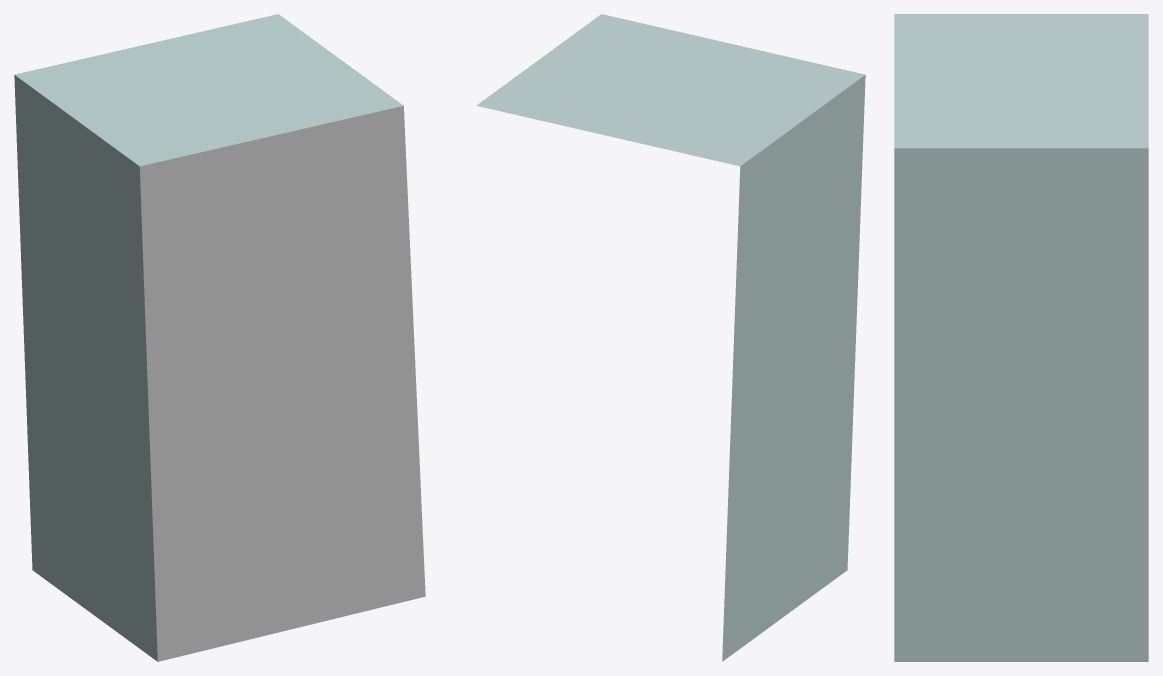
3 renders of one model, left to right at view 1: azimuth 30°, elevation 25°; view 2: azimuth 150°, elevation 25°; view 3: azimuth 270°, elevation 25°, orthographic.
Parts seen in each view (by area): view 1: 0_0_2_1_0_1_0_2_0; view 2: 0_0_2_1_0_1_0_2_0; view 3: 0_0_2_1_0_1_0_2_0.
Part boxes in pixels (<box>): 0_0_2_1_0_1_0_2_0: <box>14,14,425,661</box>; 0_0_2_1_0_1_0_2_0: <box>476,14,865,661</box>; 0_0_2_1_0_1_0_2_0: <box>894,14,1148,661</box>.
Bounding box in the file's own units: 3.95 × 6.6 × 3.
